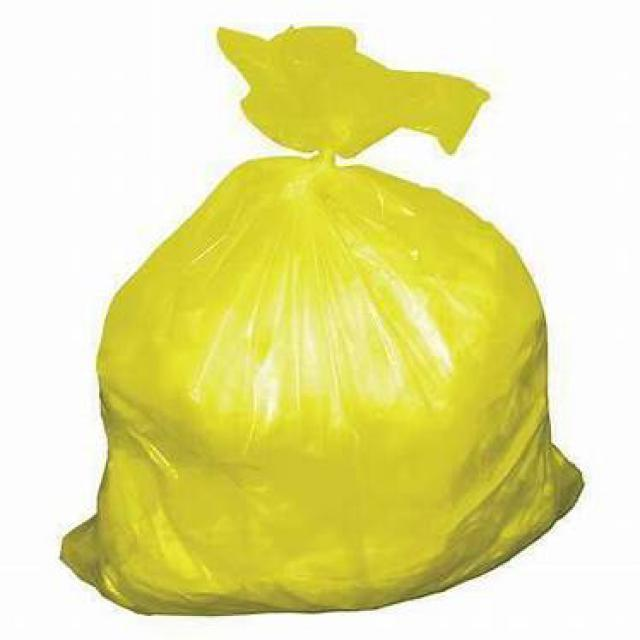waste: (46, 14, 582, 600)
